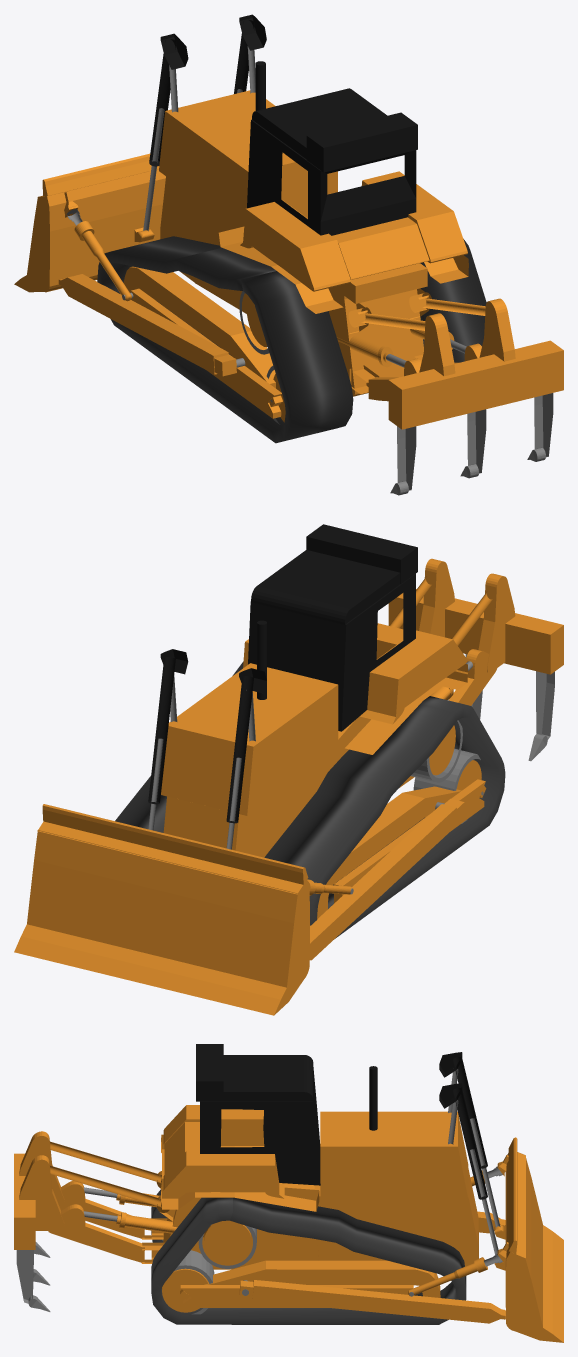
The model's file is dozer.glb.
3 renders of one model, top to bottom at view 1: azimuth 30°, elevation 25°; view 2: azimuth 150°, elevation 25°; view 3: azimuth 270°, elevation 25°, orthographic. The views are drawn at different scales.
Parts seen in each view (by area): view 1: Mesh_0.003; view 2: Mesh_0.003; view 3: Mesh_0.003.
Boxes of the visible parts, x1,y1,x2,y2 form: Mesh_0.003: (14, 14, 563, 495); Mesh_0.003: (14, 524, 563, 1015); Mesh_0.003: (14, 1044, 563, 1342).
Size of the model in its own units: 2.04 by 2.11 by 4.59.
